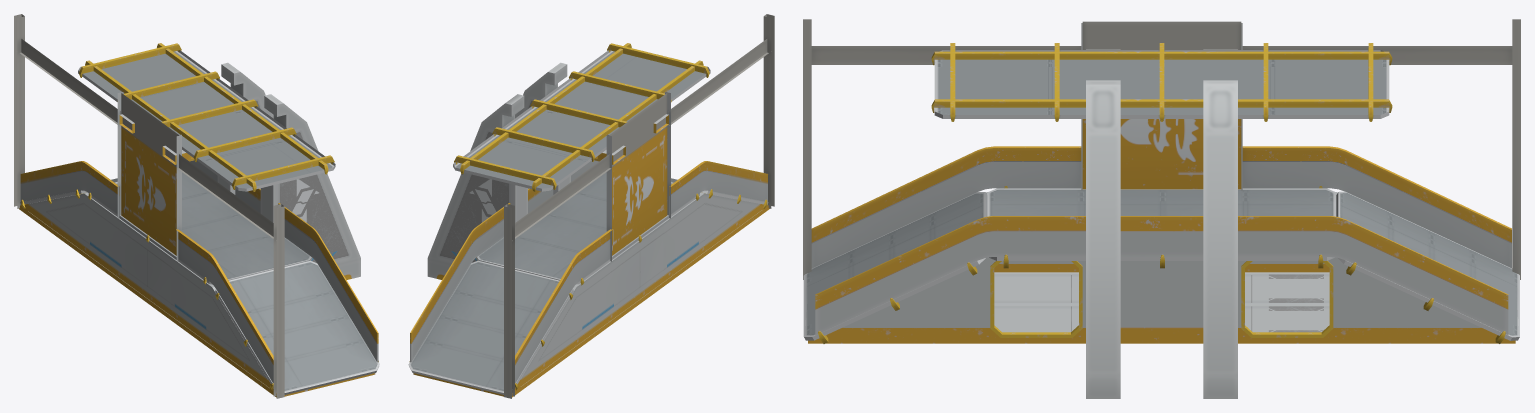
File: BC_Fbx_JieTi_2.FBX
3 renders of one model, left to right at view 1: azimuth 30°, elevation 25°; view 2: azimuth 150°, elevation 25°; view 3: azimuth 270°, elevation 25°, orthographic. The views are drawn at different scales.
Visible parts, largest first — view 1: BC_Fbx_JieTi_2; view 2: BC_Fbx_JieTi_2; view 3: BC_Fbx_JieTi_2.
Part boxes in pixels (x1,y1,x2,y2): BC_Fbx_JieTi_2: [14, 14, 379, 398]; BC_Fbx_JieTi_2: [408, 14, 774, 398]; BC_Fbx_JieTi_2: [803, 19, 1520, 398].
Size of the model in its own units: 8.29 by 8.2 by 20.08.
